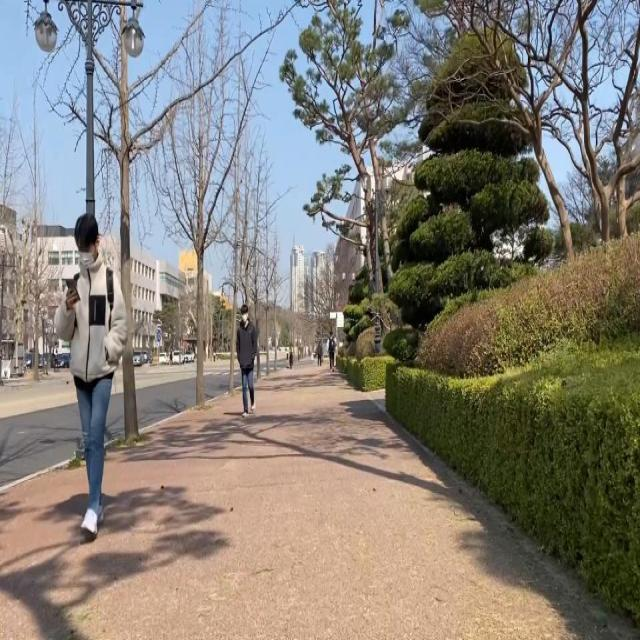sidewalk: (0, 368, 640, 640), (0, 376, 68, 387)
